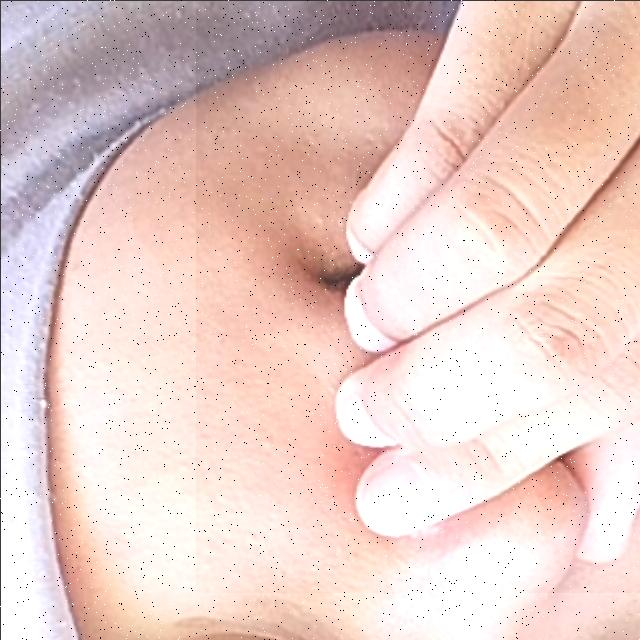bau: (195, 0, 640, 592)
